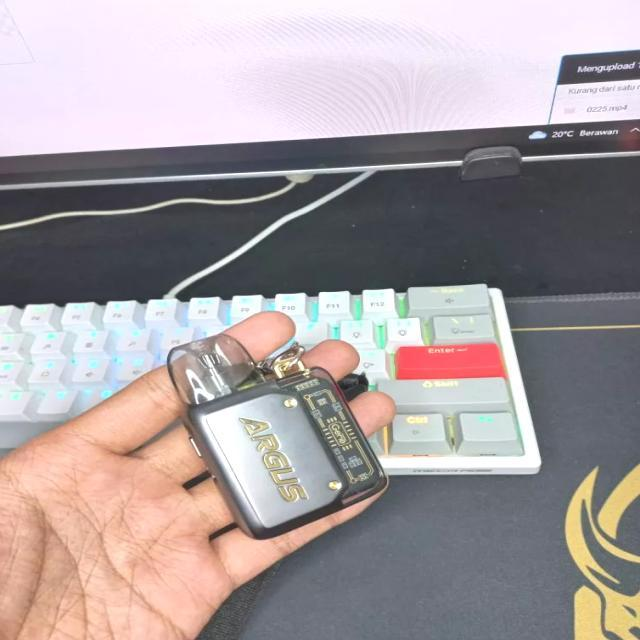Hazard: (164, 336, 393, 538)
